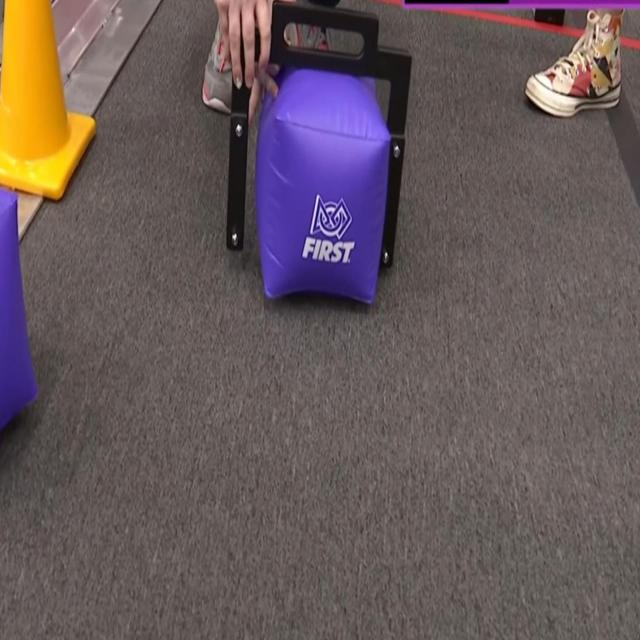frc_cone: (0, 0, 98, 202)
frc_cube: (256, 54, 387, 312), (0, 189, 39, 434)
